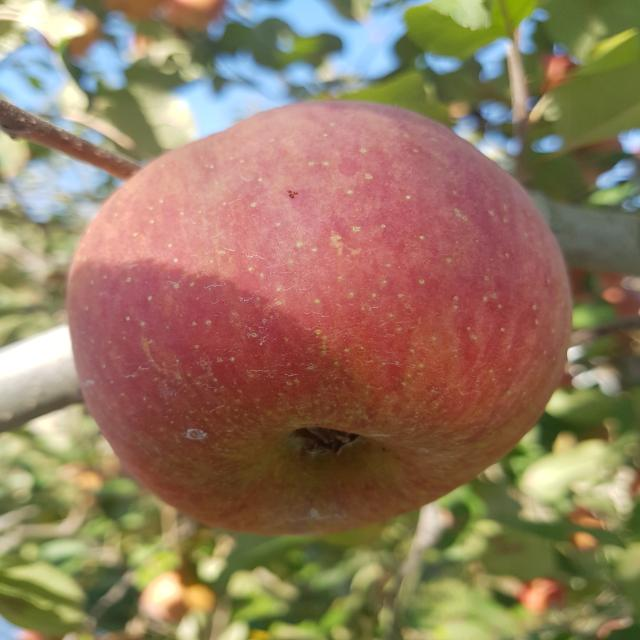fresh: (56, 90, 588, 544)
